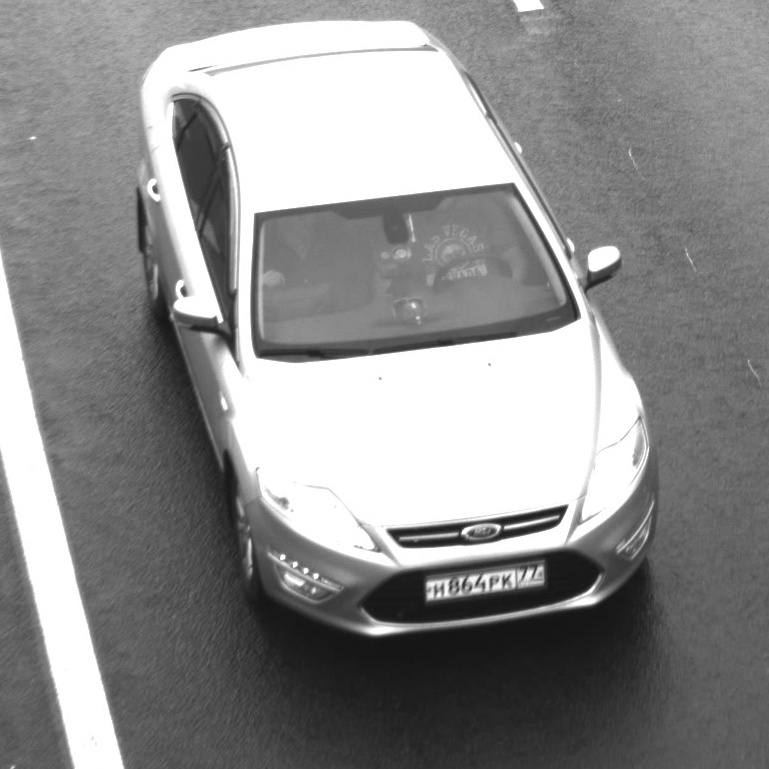plate: (416, 551, 549, 608)
